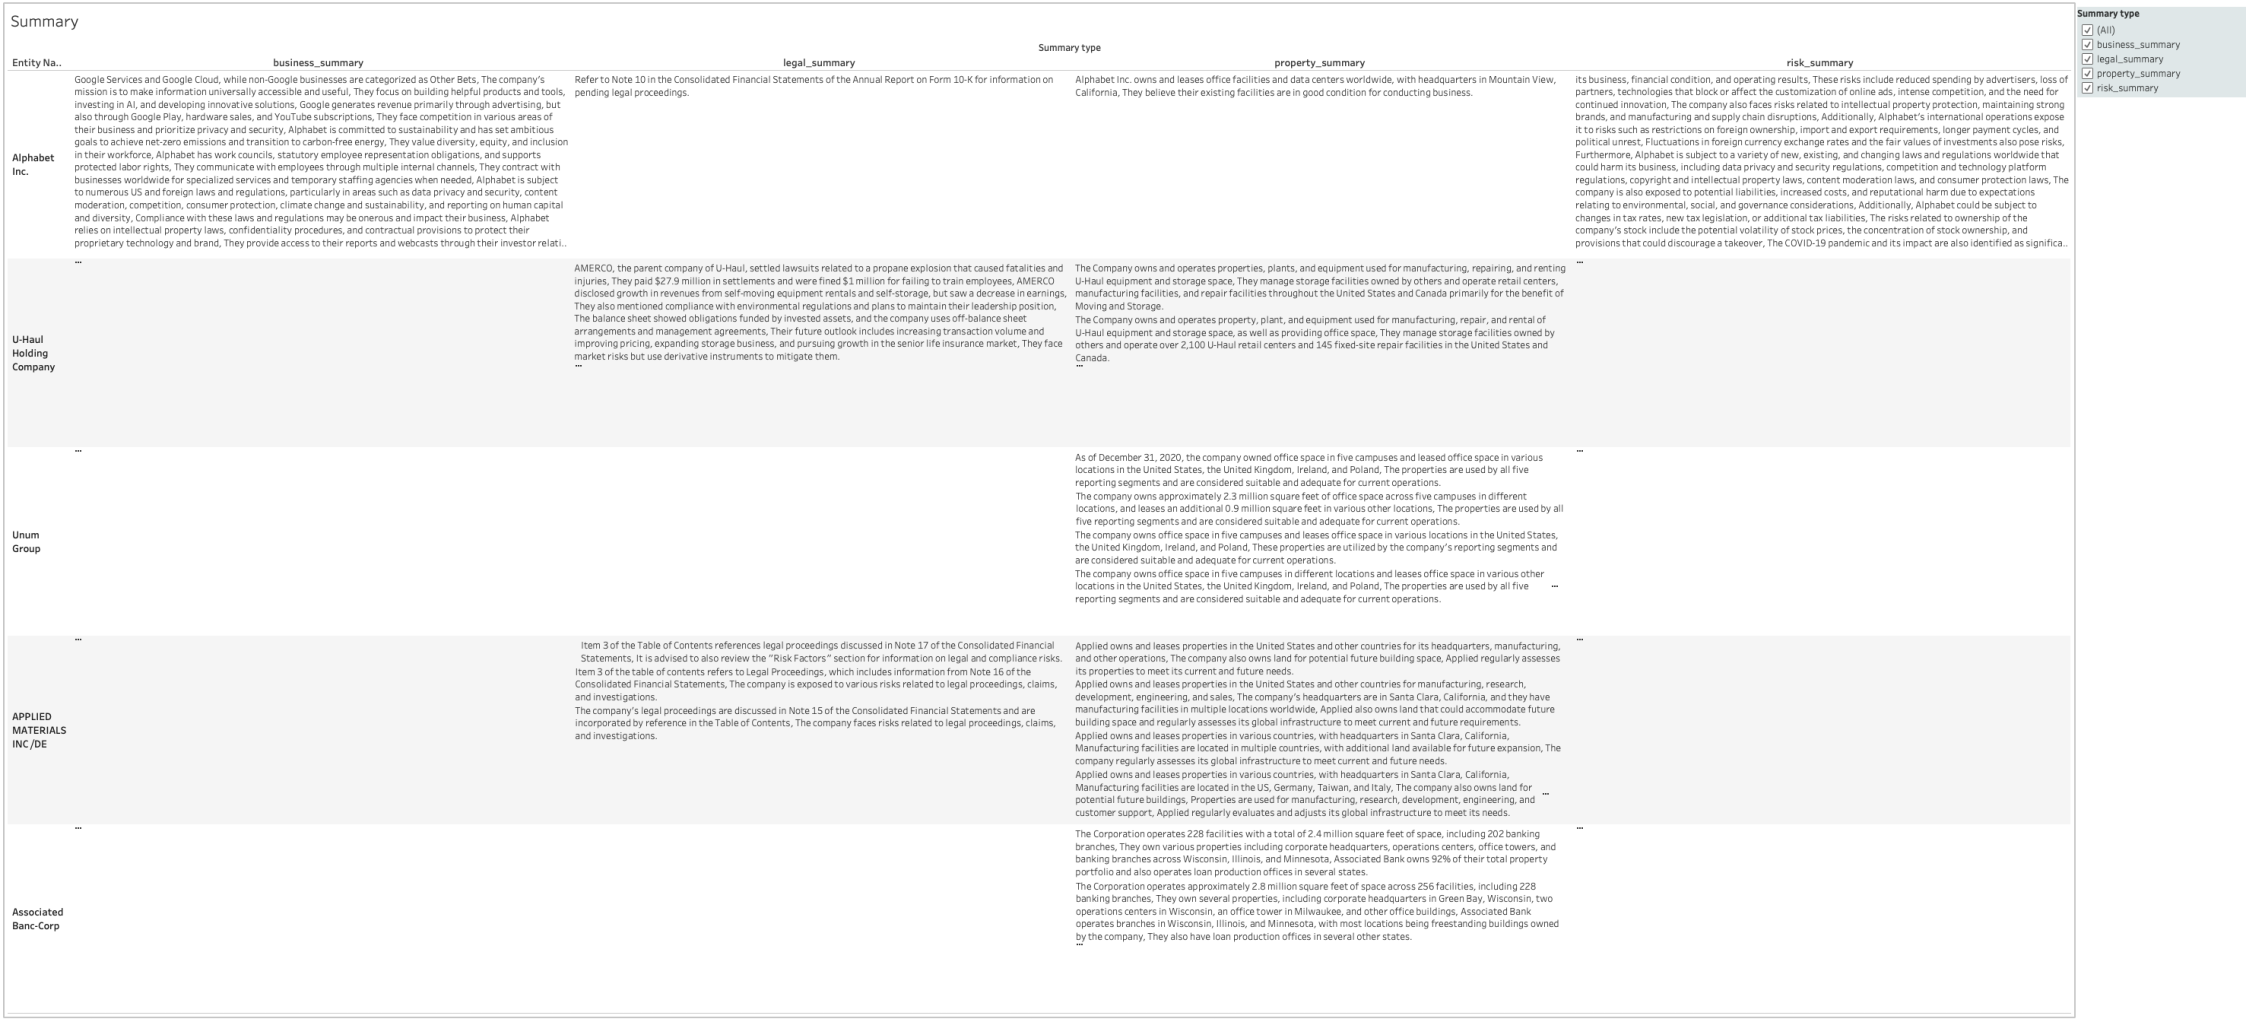

The page's visual inventory and layout, read from the dashboard file:
{"tool":"tableau","page":{"name":"Dashboard 2","canvas":[1000,1000],"units":"permille","ordinal":1},"visuals":[{"type":"worksheet","title":"Summary","mark":"Automatic","rows":["entityName"],"cols":["Summary type"],"box":[2.5,5.9,860.3,988.1]},{"type":"filter","title":"Summary","param":"[federated.1uynard0fahcuj18up5il0lq0ml4].[none:Summary type:nk]","box":[862.8,5.9,134.6,94.2]}]}

Visuals, with their boxes on the dashboard's canvas, which has no fixed pixel size, in thousandths of its width and height (x1, y1, x2, y2). These are canvas units, not pixel positions in the 2246x1022 screenshot, which may show the page scaled, cropped or inside an application window:
"Summary" worksheet: <region>2, 6, 863, 994</region>
"Summary" filter: <region>863, 6, 997, 100</region>
